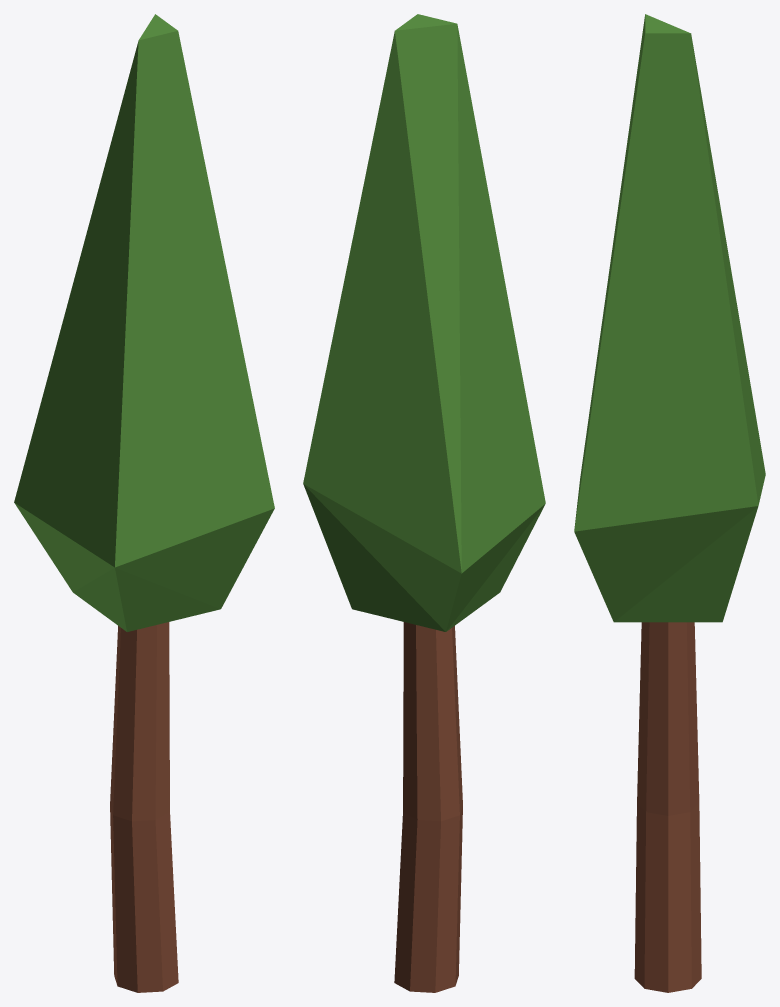
File: Tree_49_summer_mat.fbx
3 views of the same model, side by side, from view 1: azimuth 30°, elevation 25°; view 2: azimuth 150°, elevation 25°; view 3: azimuth 270°, elevation 25° (orthographic).
Parts seen in each view (by area): view 1: Tree_49_summer_mat; view 2: Tree_49_summer_mat; view 3: Tree_49_summer_mat.
Part boxes in pixels (x1,y1,x2,y2): Tree_49_summer_mat: (14, 14, 274, 992); Tree_49_summer_mat: (303, 14, 545, 992); Tree_49_summer_mat: (574, 14, 765, 992).
Bounding box in the file's own units: 47.16 × 259 × 47.16.
